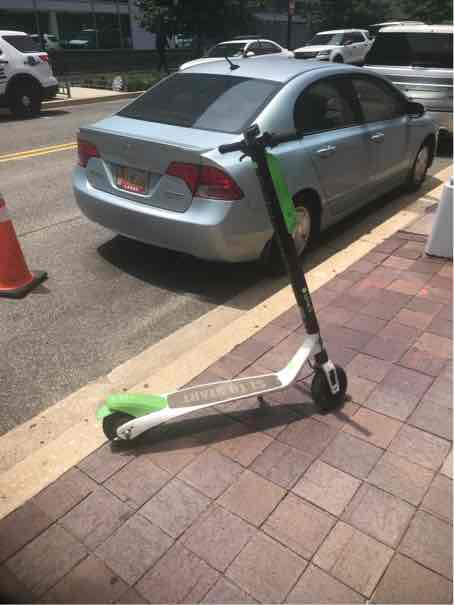scooter: (84, 112, 352, 456)
